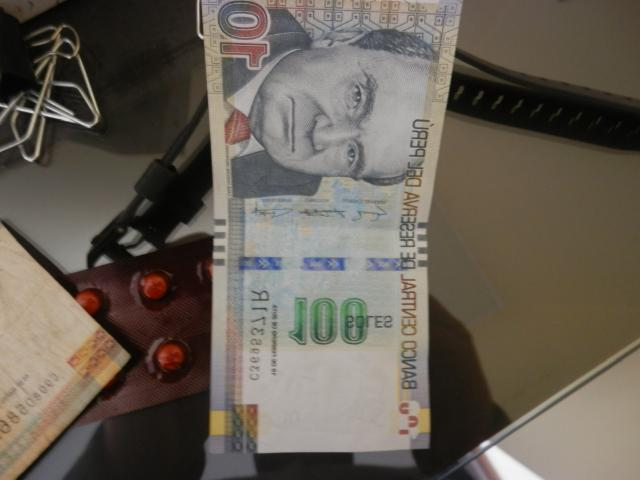B100: (203, 1, 457, 451)
